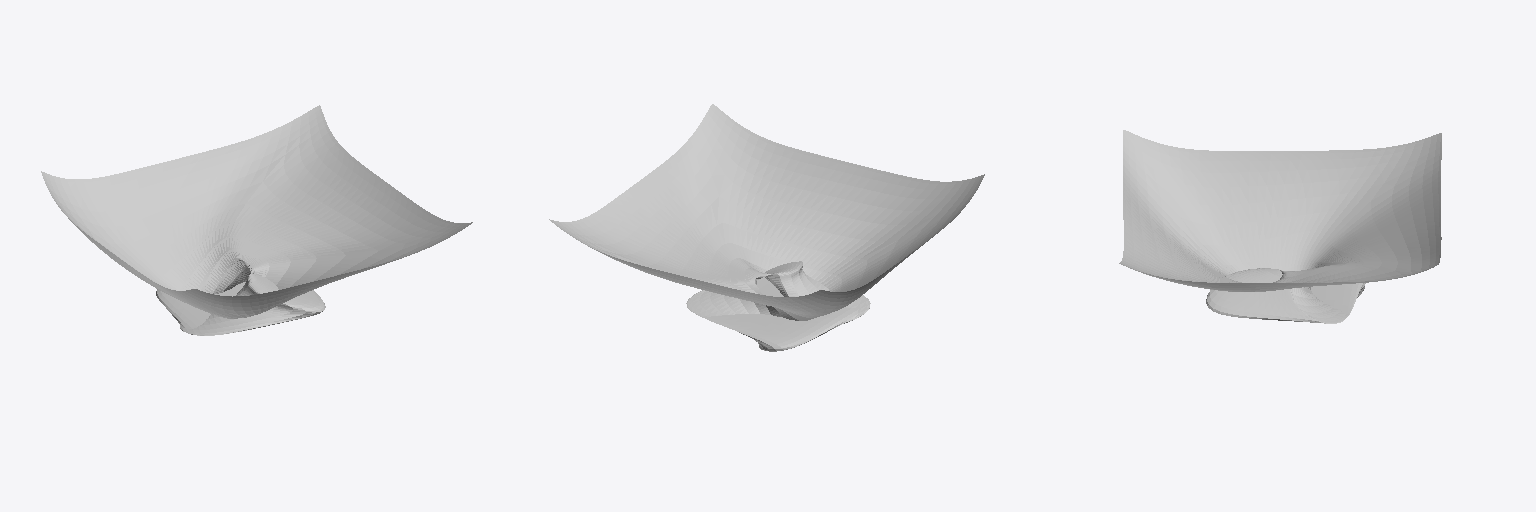
The model's file is map03.obj.
3 views of the same model, side by side, from view 1: azimuth 30°, elevation 25°; view 2: azimuth 150°, elevation 25°; view 3: azimuth 270°, elevation 25° (orthographic).
Parts seen in each view (by area): view 1: Grid; view 2: Grid; view 3: Grid.
Part boxes in pixels (x1,y1,x2,y2): Grid: (41,105,472,335); Grid: (549,104,984,351); Grid: (1119,130,1441,323).
Size of the model in its own units: 1.69 by 0.6827 by 1.68.